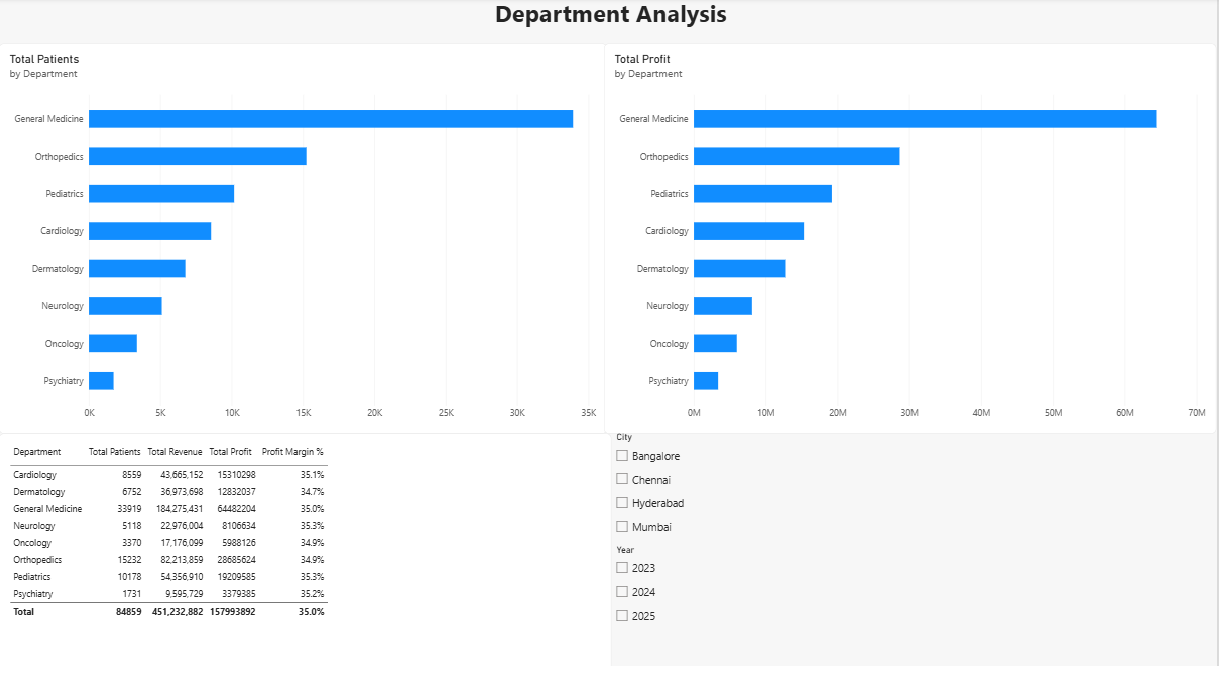

This screenshot's page, from the dashboard's own definition file:
{"tool":"powerbi","page":{"name":"Page 2","canvas":[1920,1080],"ordinal":1},"visuals":[{"type":"textbox","box":[9.5,0,1911.1,74],"z":0},{"type":"clusteredBarChart","fields":{"Category":["Dim_Department.Department"],"Y":["Measure_Table.Total Patients"]},"box":[0,74,959.1,620.3],"z":1},{"type":"clusteredBarChart","fields":{"Category":["Dim_Department.Department"],"Y":["Measure_Table.Total Profit"]},"box":[954.4,74,966.3,620.3],"z":2},{"type":"tableEx","fields":{"Values":["Dim_Department.Department","Measure_Table.Total Patients","Measure_Table.Total Revenue","Measure_Table.Total Profit","Measure_Table.Profit Margin %"]},"box":[0,694.3,966.3,386.5],"z":3},{"type":"slicer","fields":{"Values":["Dim_Date.Year"]},"box":[966.3,870.9,954.4,210],"z":4},{"type":"slicer","fields":{"Values":["Dim_City.City"]},"box":[966.3,691.9,954.4,178.9],"z":5}]}

Visuals, with their boxes in screenshot pixels (x1, y1, x2, y2), scaled from the page's 1920x1080 canvas onto the 1219x699 screenshot:
textbox: x1=6, y1=0, x2=1218, y2=48
clusteredBarChart - Dim_Department.Department x Measure_Table.Total Patients: x1=0, y1=48, x2=609, y2=449
clusteredBarChart - Dim_Department.Department x Measure_Table.Total Profit: x1=606, y1=48, x2=1218, y2=449
tableEx - Dim_Department.Department x Measure_Table.Total Patients: x1=0, y1=449, x2=613, y2=698
slicer - Dim_Date.Year: x1=613, y1=564, x2=1218, y2=698
slicer - Dim_City.City: x1=613, y1=448, x2=1218, y2=564
